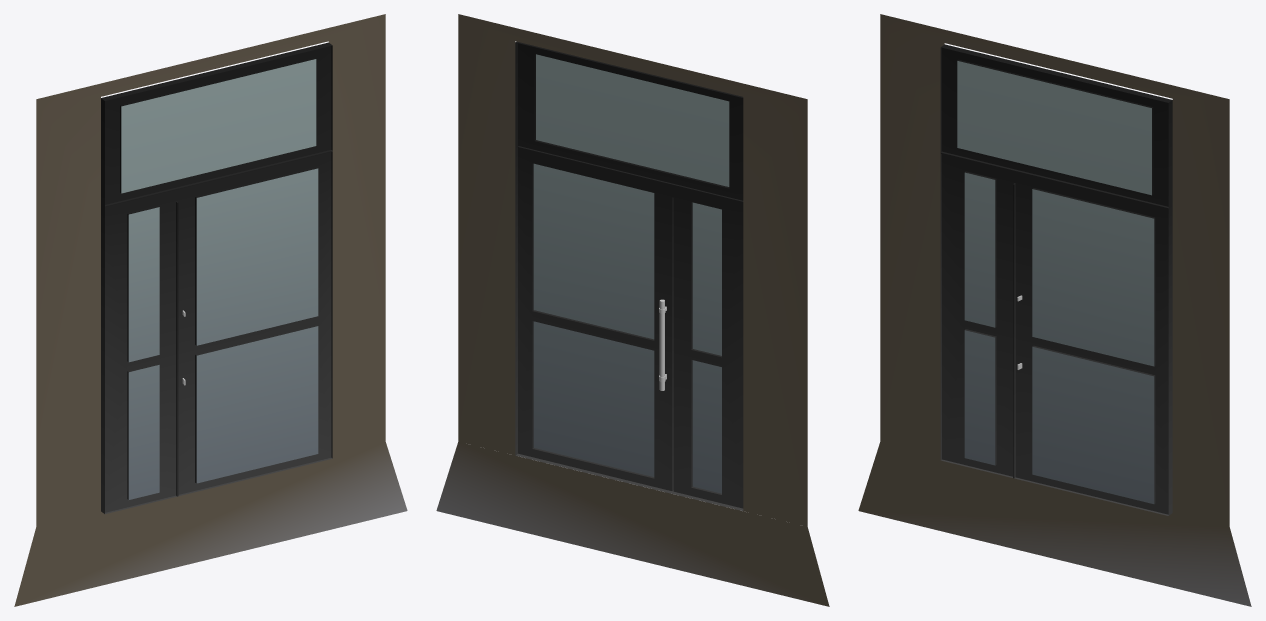
The model's file is DoorNew.fbx.
3 renders of one model, left to right at view 1: azimuth 30°, elevation 25°; view 2: azimuth 150°, elevation 25°; view 3: azimuth 330°, elevation 25°, orthographic.
Visible parts, largest first — view 1: Stekl Dver.005, Chast podiezds na old dom new door; view 2: Stekl Dver.005, Chast podiezds na old dom new door; view 3: Stekl Dver.005, Chast podiezds na old dom new door.
Part boxes in pixels (bbox=[...]): Stekl Dver.005: bbox=[101, 42, 332, 514]; Chast podiezds na old dom new door: bbox=[14, 14, 407, 606]; Stekl Dver.005: bbox=[515, 41, 743, 510]; Chast podiezds na old dom new door: bbox=[436, 14, 829, 606]; Stekl Dver.005: bbox=[940, 44, 1172, 515]; Chast podiezds na old dom new door: bbox=[858, 14, 1251, 606].
Bounding box in the file's own units: 5.88 × 0.1968 × 7.17.
